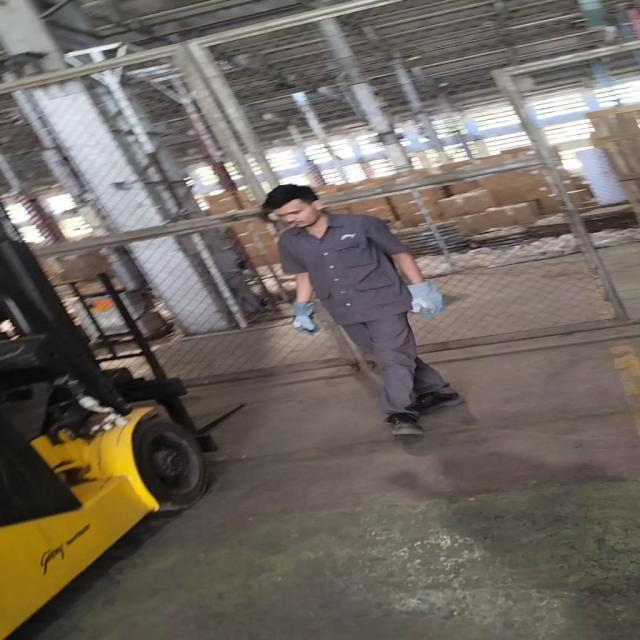Gloves-Detection: (406, 282, 444, 320), (288, 303, 317, 333)
